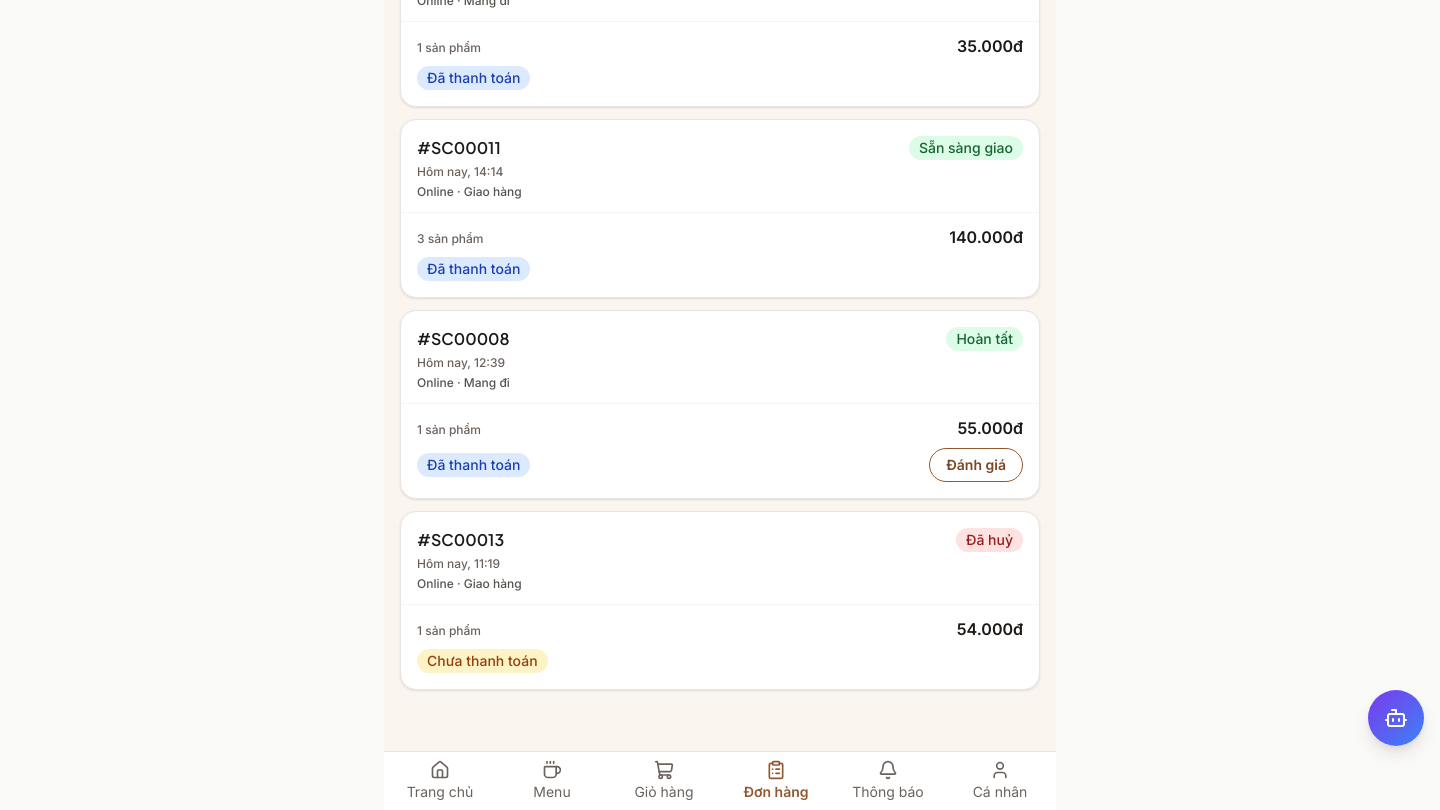
Test: /orders — lịch sử đơn hàng (GET /orders/me) › chỉ đơn hoàn tất có nút dẫn đến trang đánh giá của đơn
(page scrolled)
Click the link "Đánh giá".
click(976, 465)  # box [929,448,1023,482]
(page scrolled)
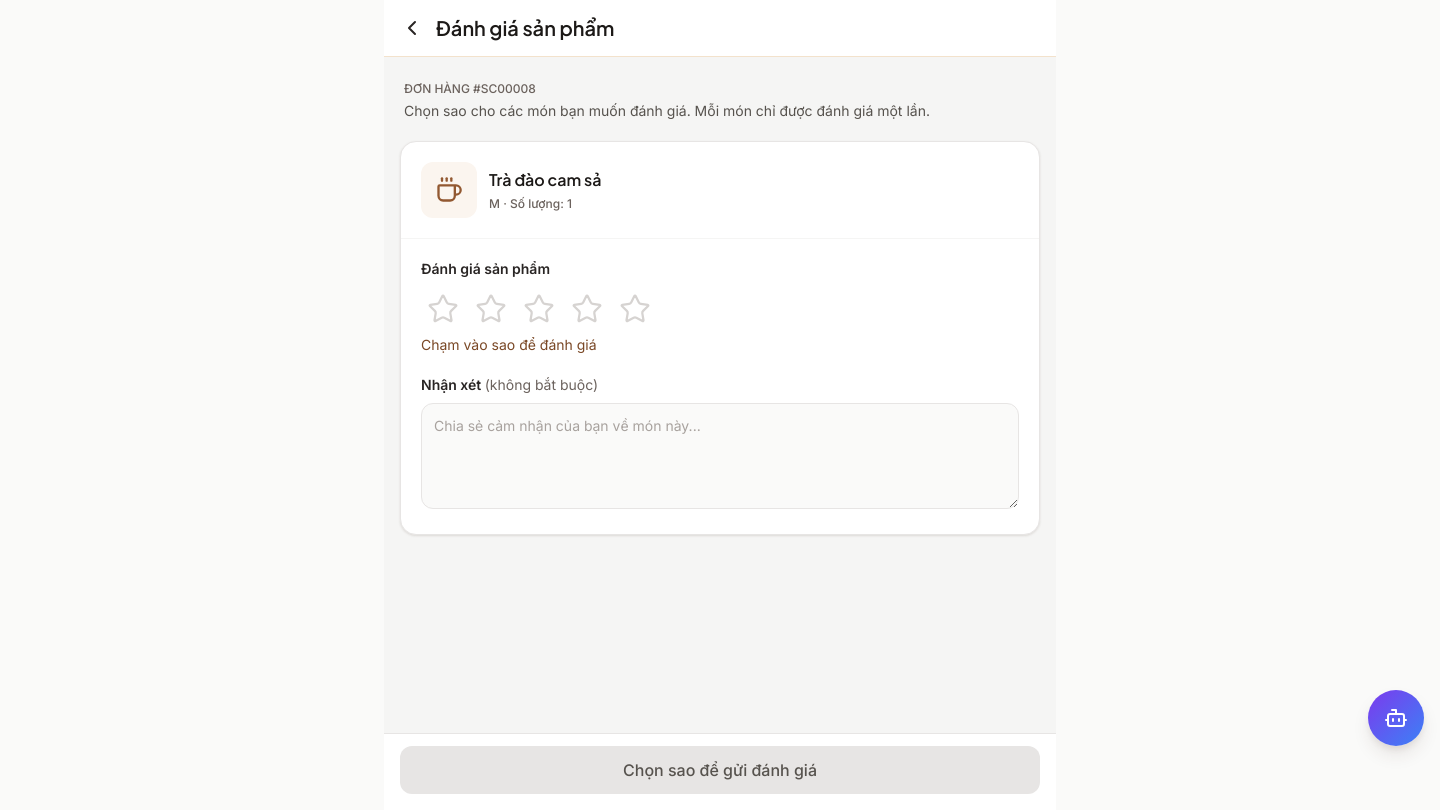
Expected: the heading "Đánh giá sản phẩm" is shown, [436,14,614,42]
